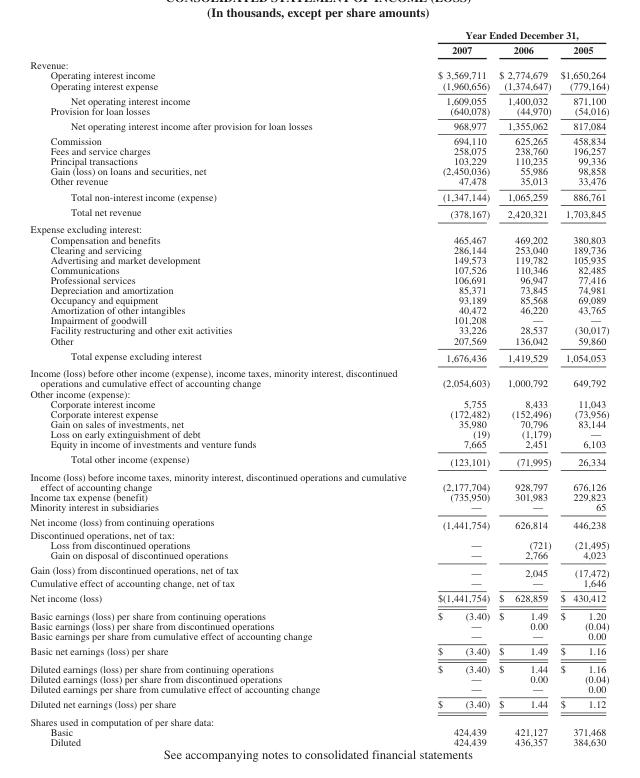table: (29, 28, 608, 747)
table column: (29, 28, 421, 747), (421, 28, 493, 747), (493, 28, 555, 747), (555, 28, 608, 747)
table column header: (29, 28, 608, 57)
table projected row header: (29, 712, 608, 726), (29, 221, 608, 234), (29, 57, 608, 69), (29, 388, 608, 398), (29, 529, 608, 539)
table row: (29, 365, 608, 388), (29, 468, 608, 491), (29, 203, 608, 221), (29, 347, 608, 365), (29, 451, 608, 468), (29, 41, 608, 57), (29, 117, 608, 133), (29, 590, 608, 606), (29, 643, 608, 659), (29, 696, 608, 712), (29, 188, 608, 203), (29, 514, 608, 529), (29, 562, 608, 577), (29, 606, 608, 620), (29, 659, 608, 673), (29, 712, 608, 726), (29, 28, 608, 41), (29, 92, 608, 105), (29, 175, 608, 188), (29, 221, 608, 234), (29, 438, 608, 451), (29, 501, 608, 514), (29, 549, 608, 562), (29, 577, 608, 590), (29, 630, 608, 643), (29, 683, 608, 696), (29, 57, 608, 69), (29, 80, 608, 92), (29, 105, 608, 117), (29, 133, 608, 145), (29, 335, 608, 347), (29, 69, 608, 80), (29, 324, 608, 335), (29, 736, 608, 747), (29, 145, 608, 155), (29, 155, 608, 165), (29, 165, 608, 175), (29, 234, 608, 244), (29, 244, 608, 254), (29, 254, 608, 264), (29, 264, 608, 274), (29, 274, 608, 284), (29, 284, 608, 294), (29, 294, 608, 304), (29, 304, 608, 314), (29, 314, 608, 324), (29, 388, 608, 398), (29, 398, 608, 408), (29, 408, 608, 418), (29, 418, 608, 428), (29, 428, 608, 438), (29, 491, 608, 501), (29, 529, 608, 539), (29, 539, 608, 549), (29, 620, 608, 630), (29, 673, 608, 683), (29, 726, 608, 736)
table spanning cell: (421, 28, 608, 41)
